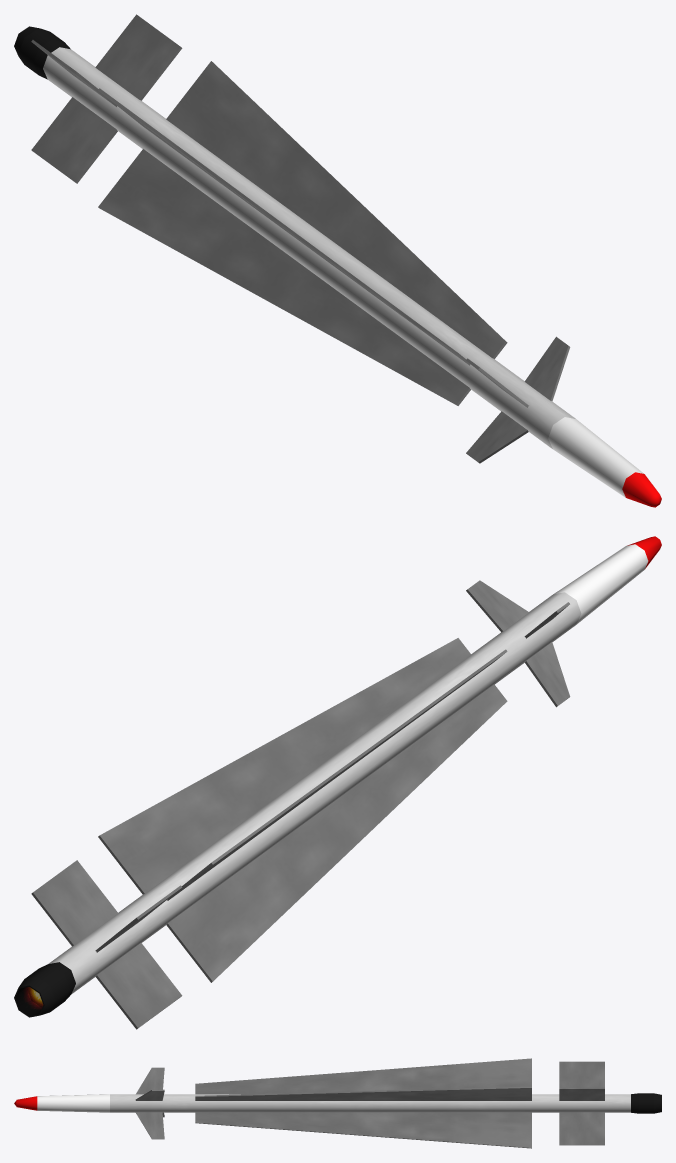
The model's file is Missile.fbx.
3 views of the same model, one above another, from view 1: azimuth 30°, elevation 25°; view 2: azimuth 150°, elevation 25°; view 3: azimuth 270°, elevation 25° (orthographic). The views are drawn at different scales.
Visible parts, largest first — view 1: asca:missile; view 2: asca:missile; view 3: asca:missile.
Part boxes in pixels (x1,y1,x2,y2): asca:missile: (14, 14, 661, 507); asca:missile: (14, 536, 661, 1029); asca:missile: (14, 1058, 661, 1148).
Size of the model in its own units: 0.391 by 0.3911 by 3.7.
Materials: 1 (1 with a texture image).
